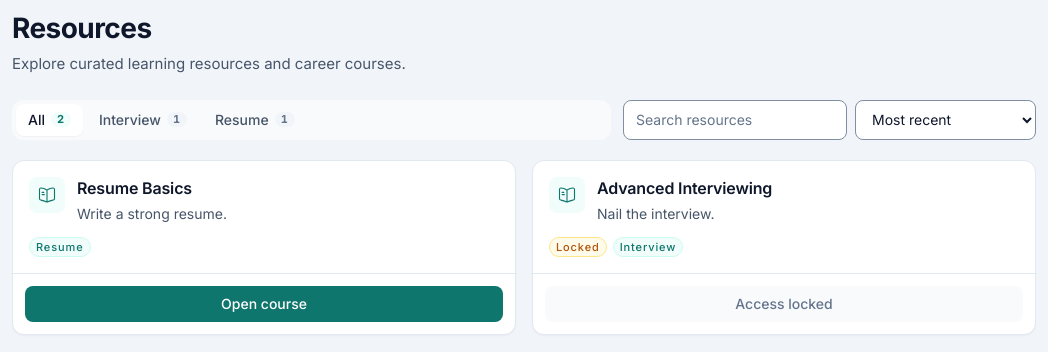
ResourcesListPage › filters by search text
Expected: the heading "Resume Basics" is shown, x1=77 y1=178 x2=192 y2=198
Type "interview" into the search field labelled "Search resources" at (735, 120), box x1=623 y1=100 x2=847 y2=140
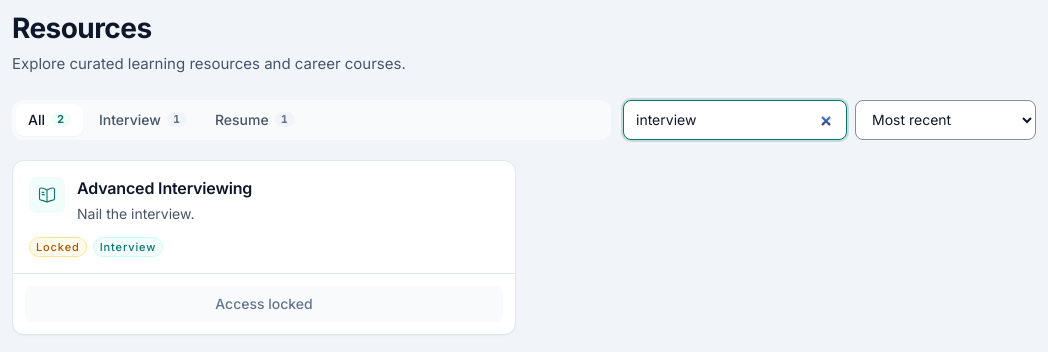
Expected: the heading "Advanced Interviewing" is shown, x1=77 y1=178 x2=252 y2=198
Expected: the heading "Resume Basics" is gone
